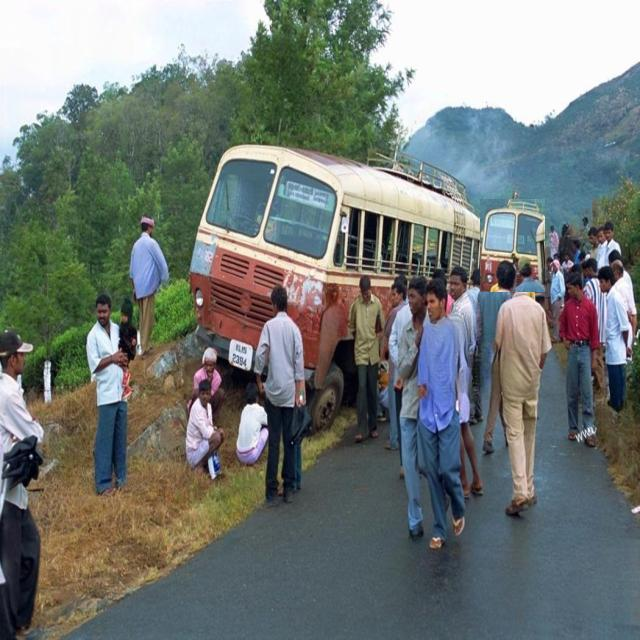bus: (190, 146, 490, 430), (480, 200, 545, 292)
